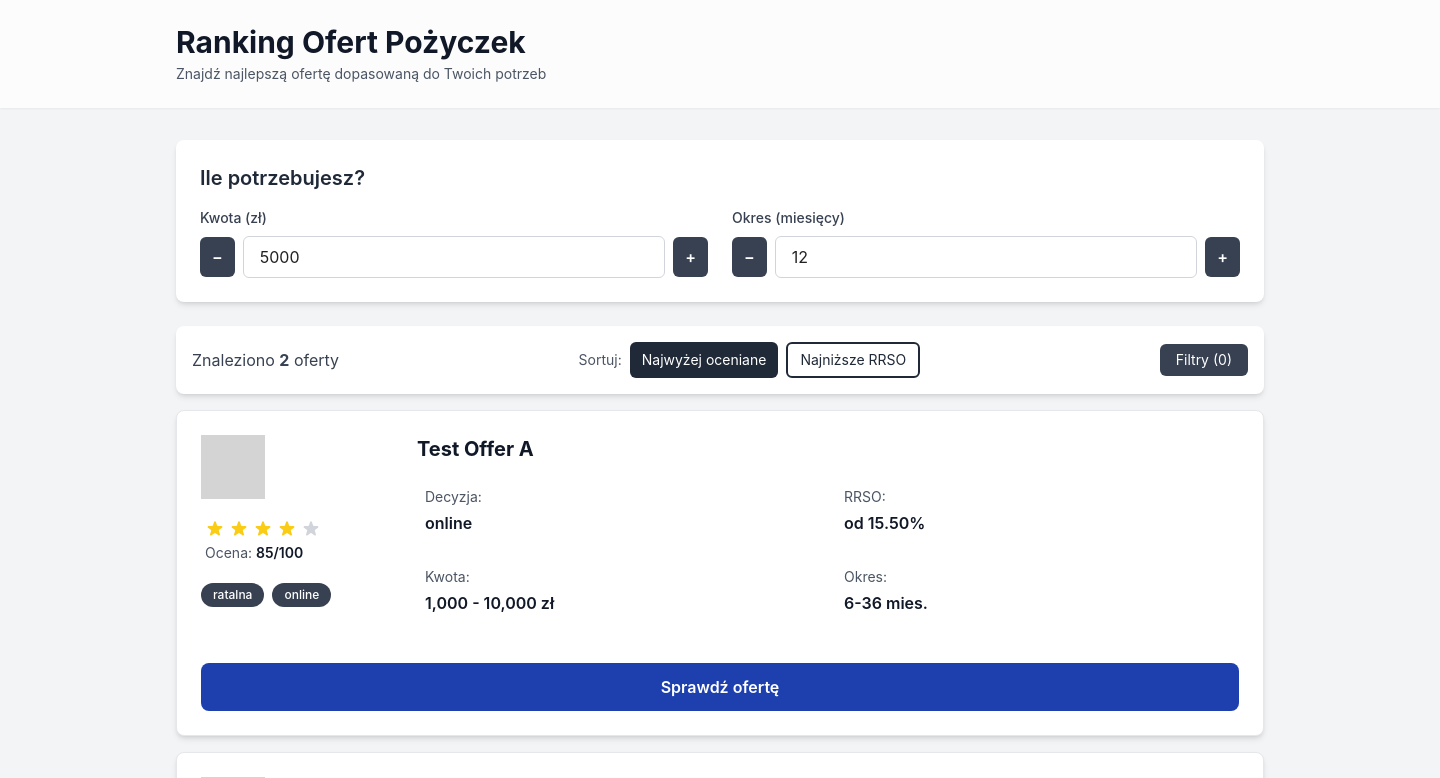
App Integration Tests › Filtering Integration › should filter offers when period changes
Check: the heading "Test Offer A" is shown, box [417, 437, 534, 461]
Replace the text in the number field labelled "Okres (miesięcy)" with "1" at {"x": 986, "y": 257}, box [775, 236, 1197, 278]
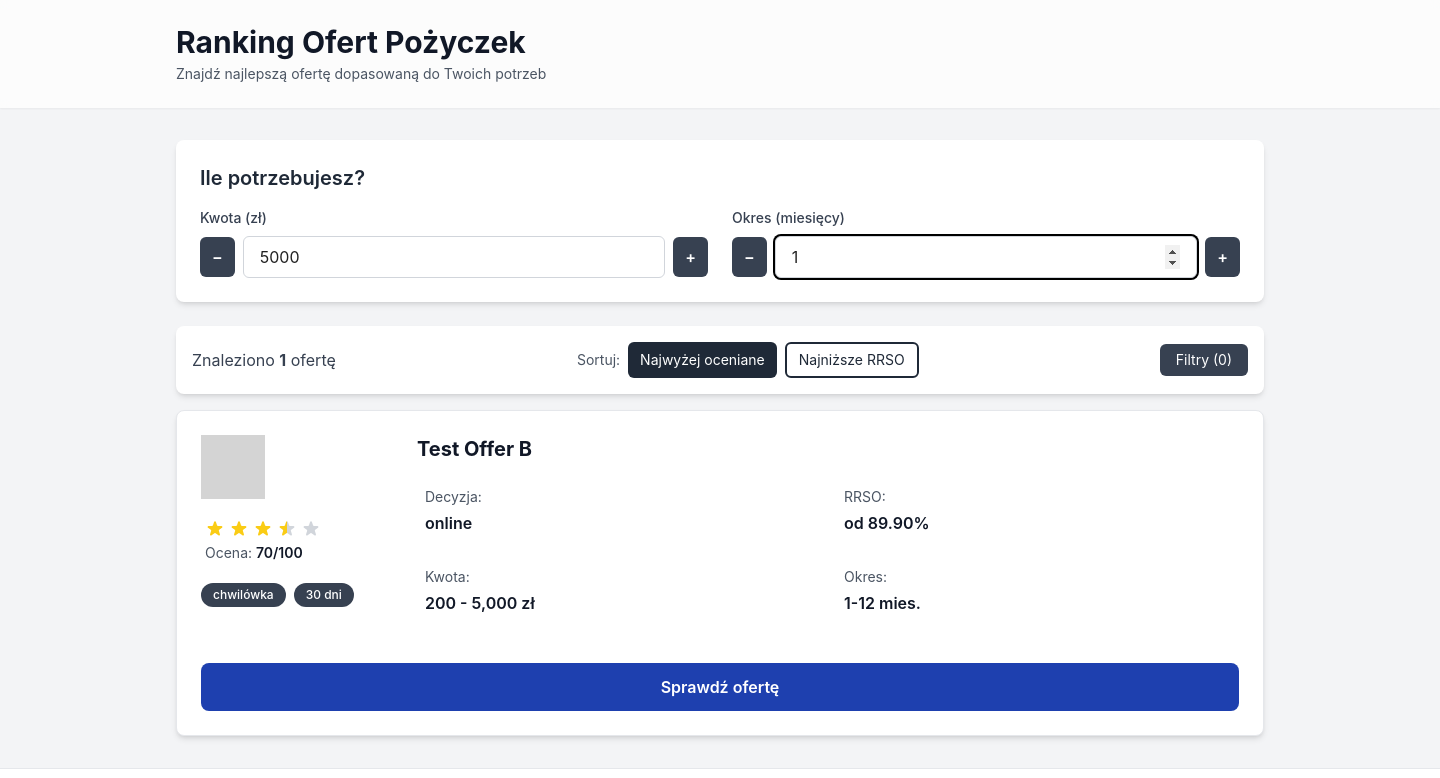
Check: the heading "Test Offer A" is not shown
Check: the heading "Test Offer B" is shown, box [417, 437, 532, 461]
